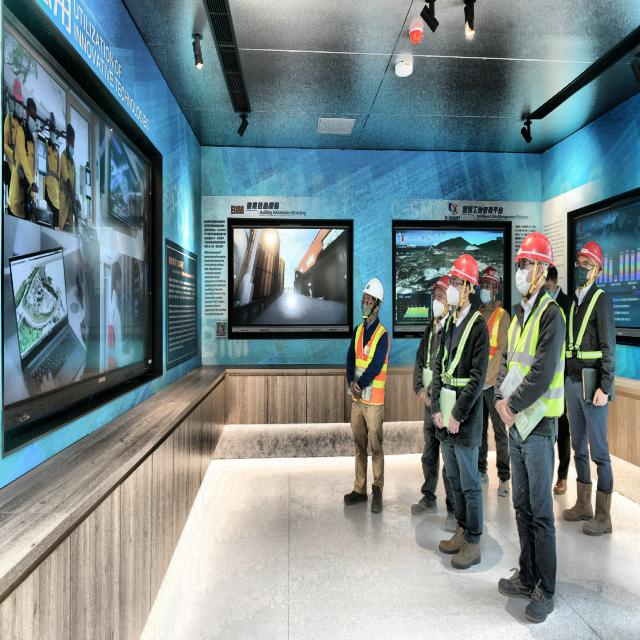safety_helmet: (512, 230, 558, 270), (447, 251, 482, 292), (576, 238, 606, 275), (360, 268, 386, 301), (430, 270, 450, 298), (482, 267, 504, 289)
safety_jacket: (494, 301, 565, 421), (342, 323, 394, 404), (480, 304, 507, 362)
